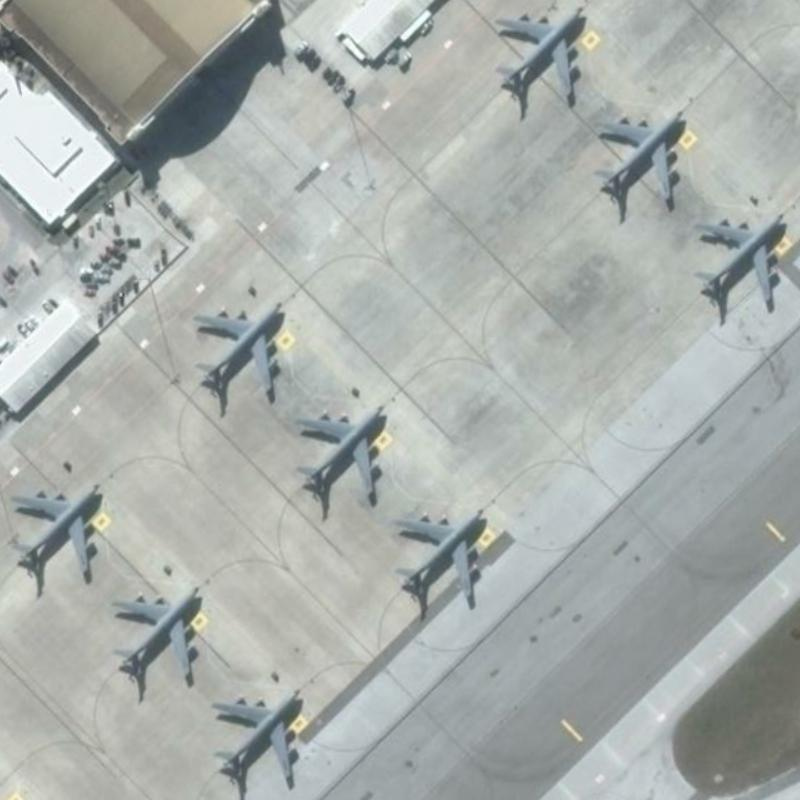A14: (688, 206, 788, 317), (104, 580, 203, 692), (290, 398, 389, 507), (386, 505, 487, 611), (187, 299, 285, 405), (5, 479, 101, 586), (489, 4, 585, 110), (591, 107, 688, 211), (207, 684, 302, 789)
